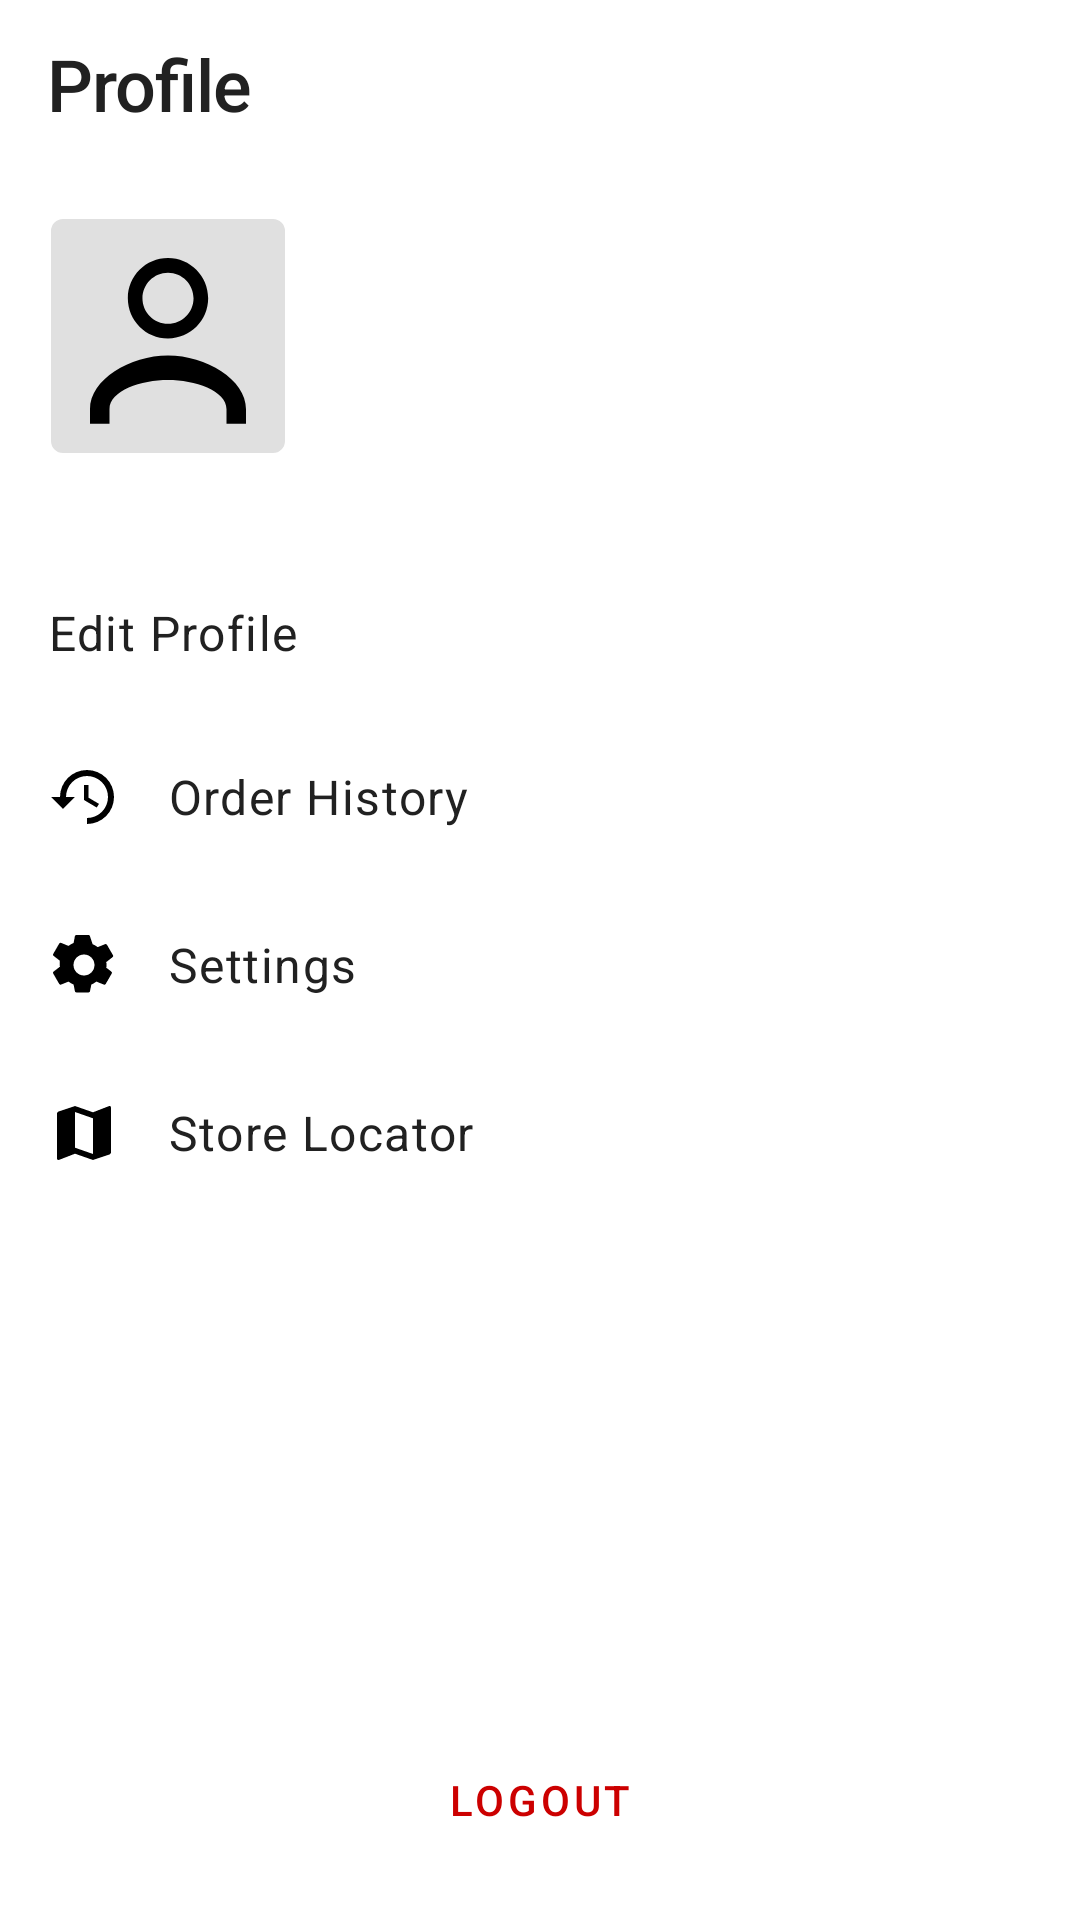

Screen size 1080w x 1920h. Icon name, then its center in pixels as [x,y]:
person: [168,336]
